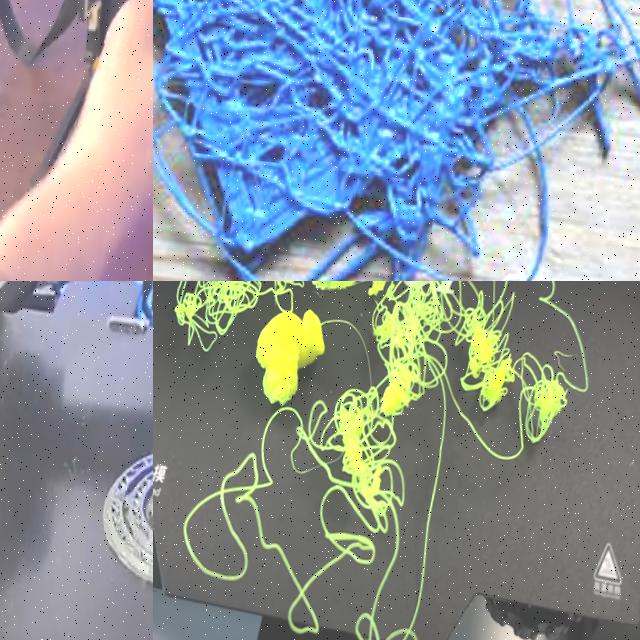spaghetti: (173, 281, 590, 640), (153, 0, 640, 281)
